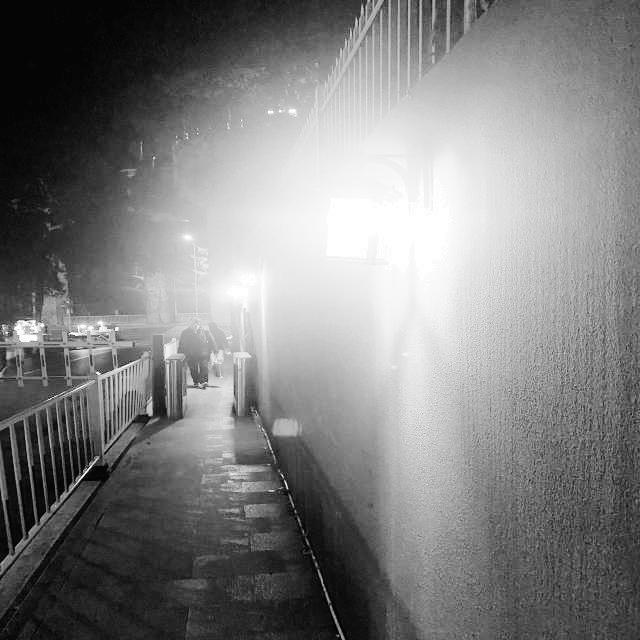Light: (323, 191, 394, 260)
